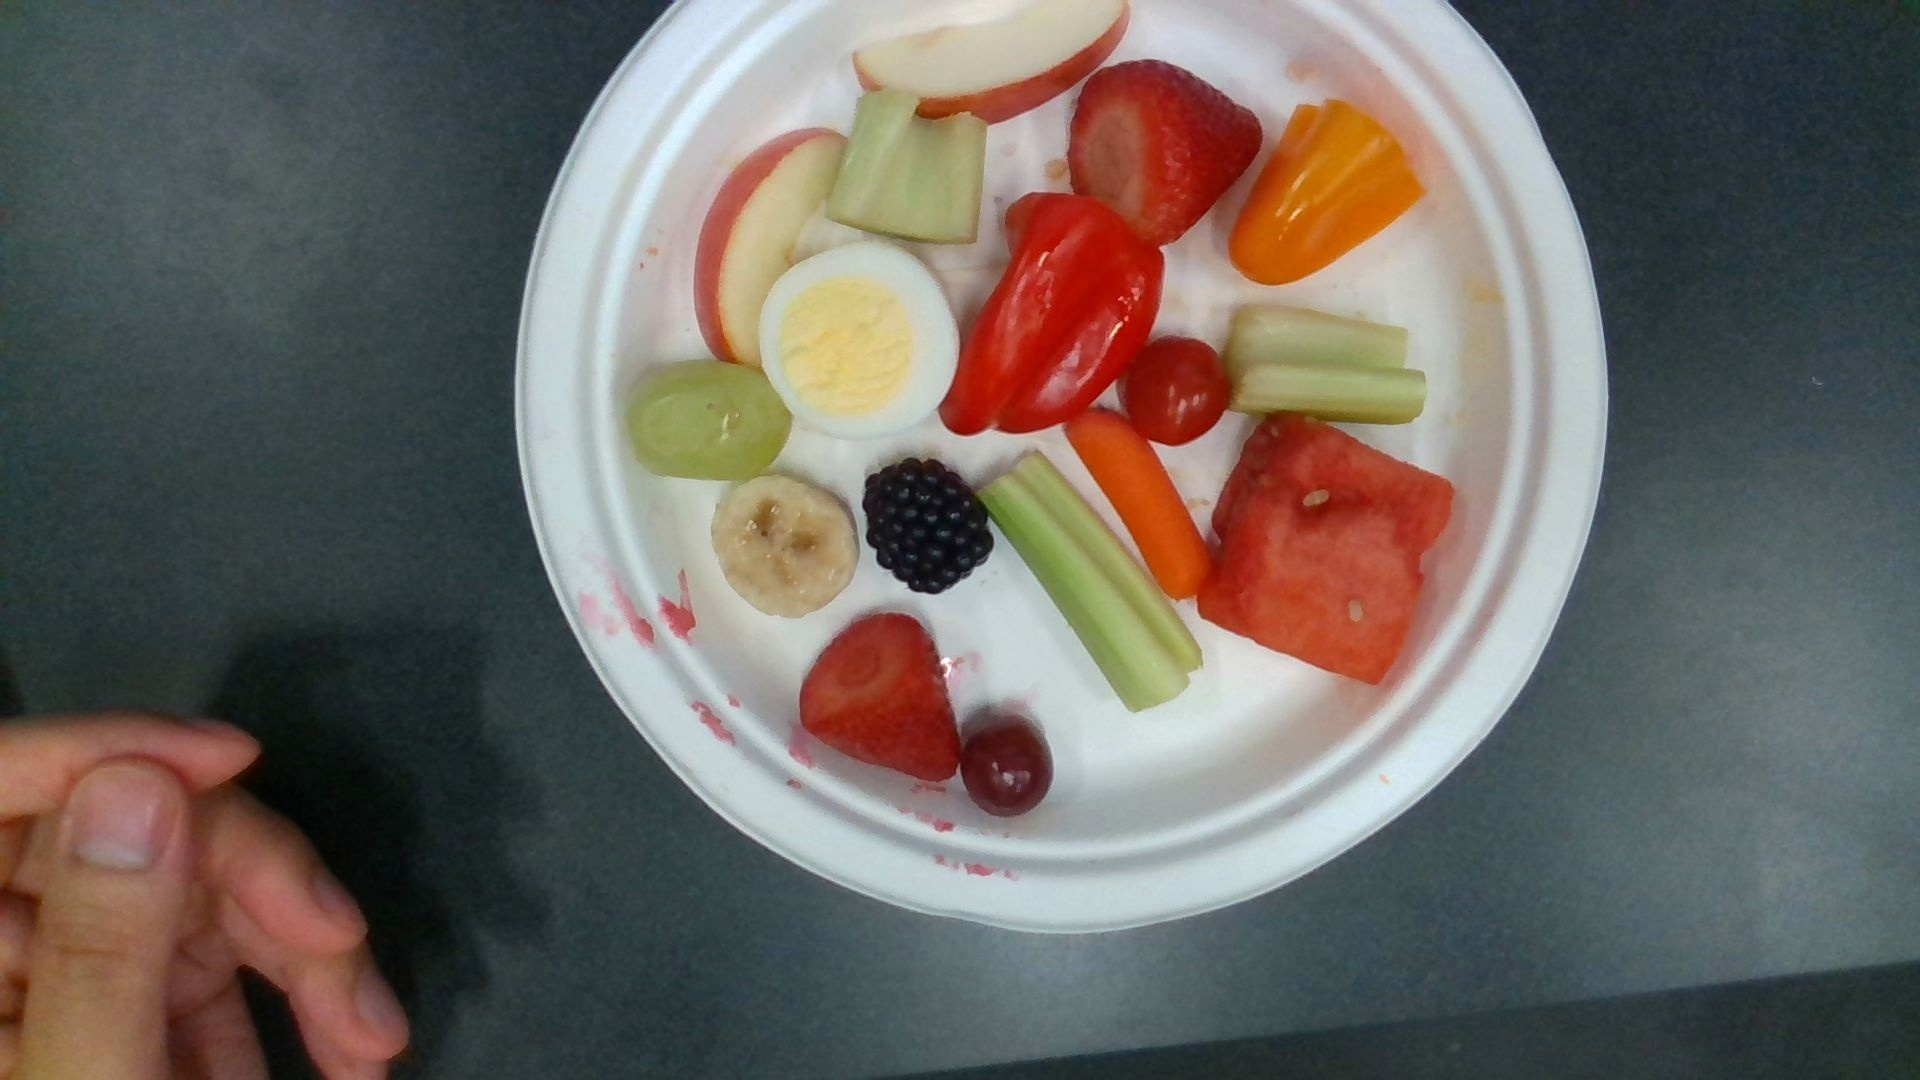apple: (698, 131, 847, 363), (855, 1, 1127, 121)
banana: (712, 476, 857, 616)
bell_pepper: (940, 195, 1164, 431), (1232, 105, 1422, 284)
blackberry: (862, 458, 992, 589)
carrot: (1062, 405, 1207, 600)
celery: (975, 450, 1203, 711), (829, 91, 985, 241), (1229, 309, 1427, 421)
cherry_tomato: (1125, 336, 1229, 440)
egg: (760, 240, 959, 430)
grape_green: (629, 360, 793, 475)
grape_purple: (963, 721, 1052, 816)
melon: (1193, 415, 1452, 691)
strawberry: (1067, 61, 1262, 236), (799, 613, 960, 783)
